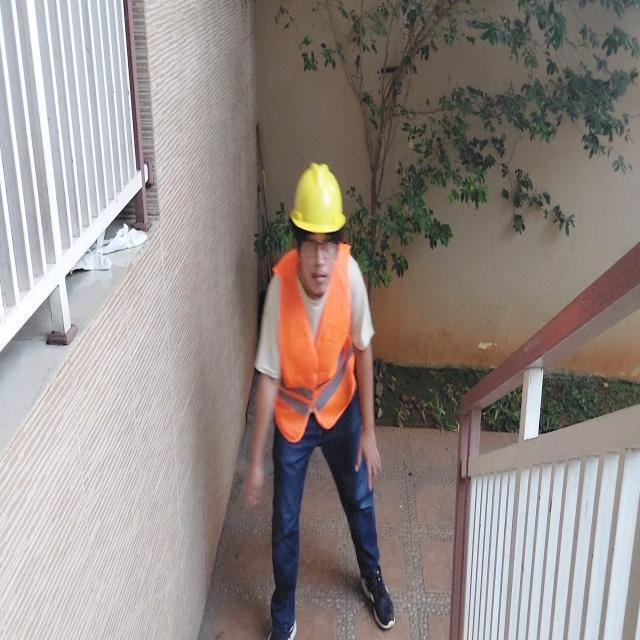helmet: (288, 163, 348, 234)
safety_vest: (268, 241, 358, 448)
